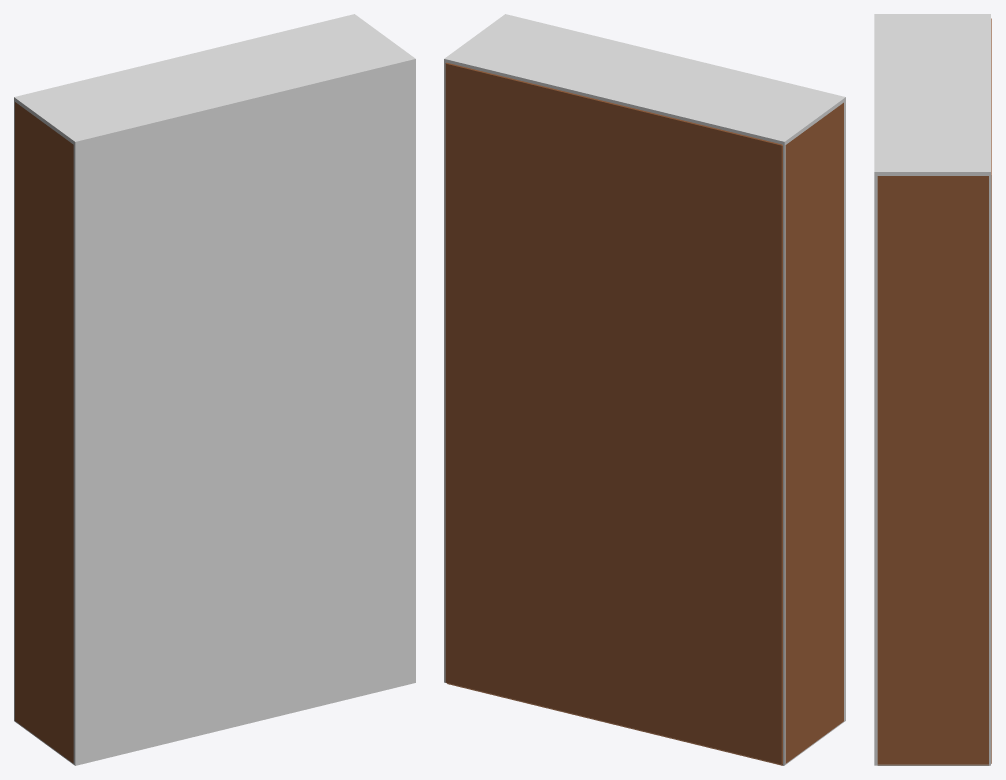
The model's file is shelf-d.glb.
The picture shows the model from 3 angles, left to right: view 1: azimuth 30°, elevation 25°; view 2: azimuth 150°, elevation 25°; view 3: azimuth 270°, elevation 25°; orthographic projection. The views are drawn at different scales.
Visible parts, largest first — view 1: Shelf D_col, Shelf D; view 2: Shelf D, Shelf D_col; view 3: Shelf D, Shelf D_col.
Part boxes in pixels (<box>): Shelf D_col: <box>14,14,415,765</box>; Shelf D: <box>15,102,73,763</box>; Shelf D: <box>445,62,843,765</box>; Shelf D_col: <box>444,14,845,765</box>; Shelf D: <box>877,18,991,765</box>; Shelf D_col: <box>874,14,990,765</box>.
Bounding box in the file's own units: 6.14 × 10.78 × 1.93.
